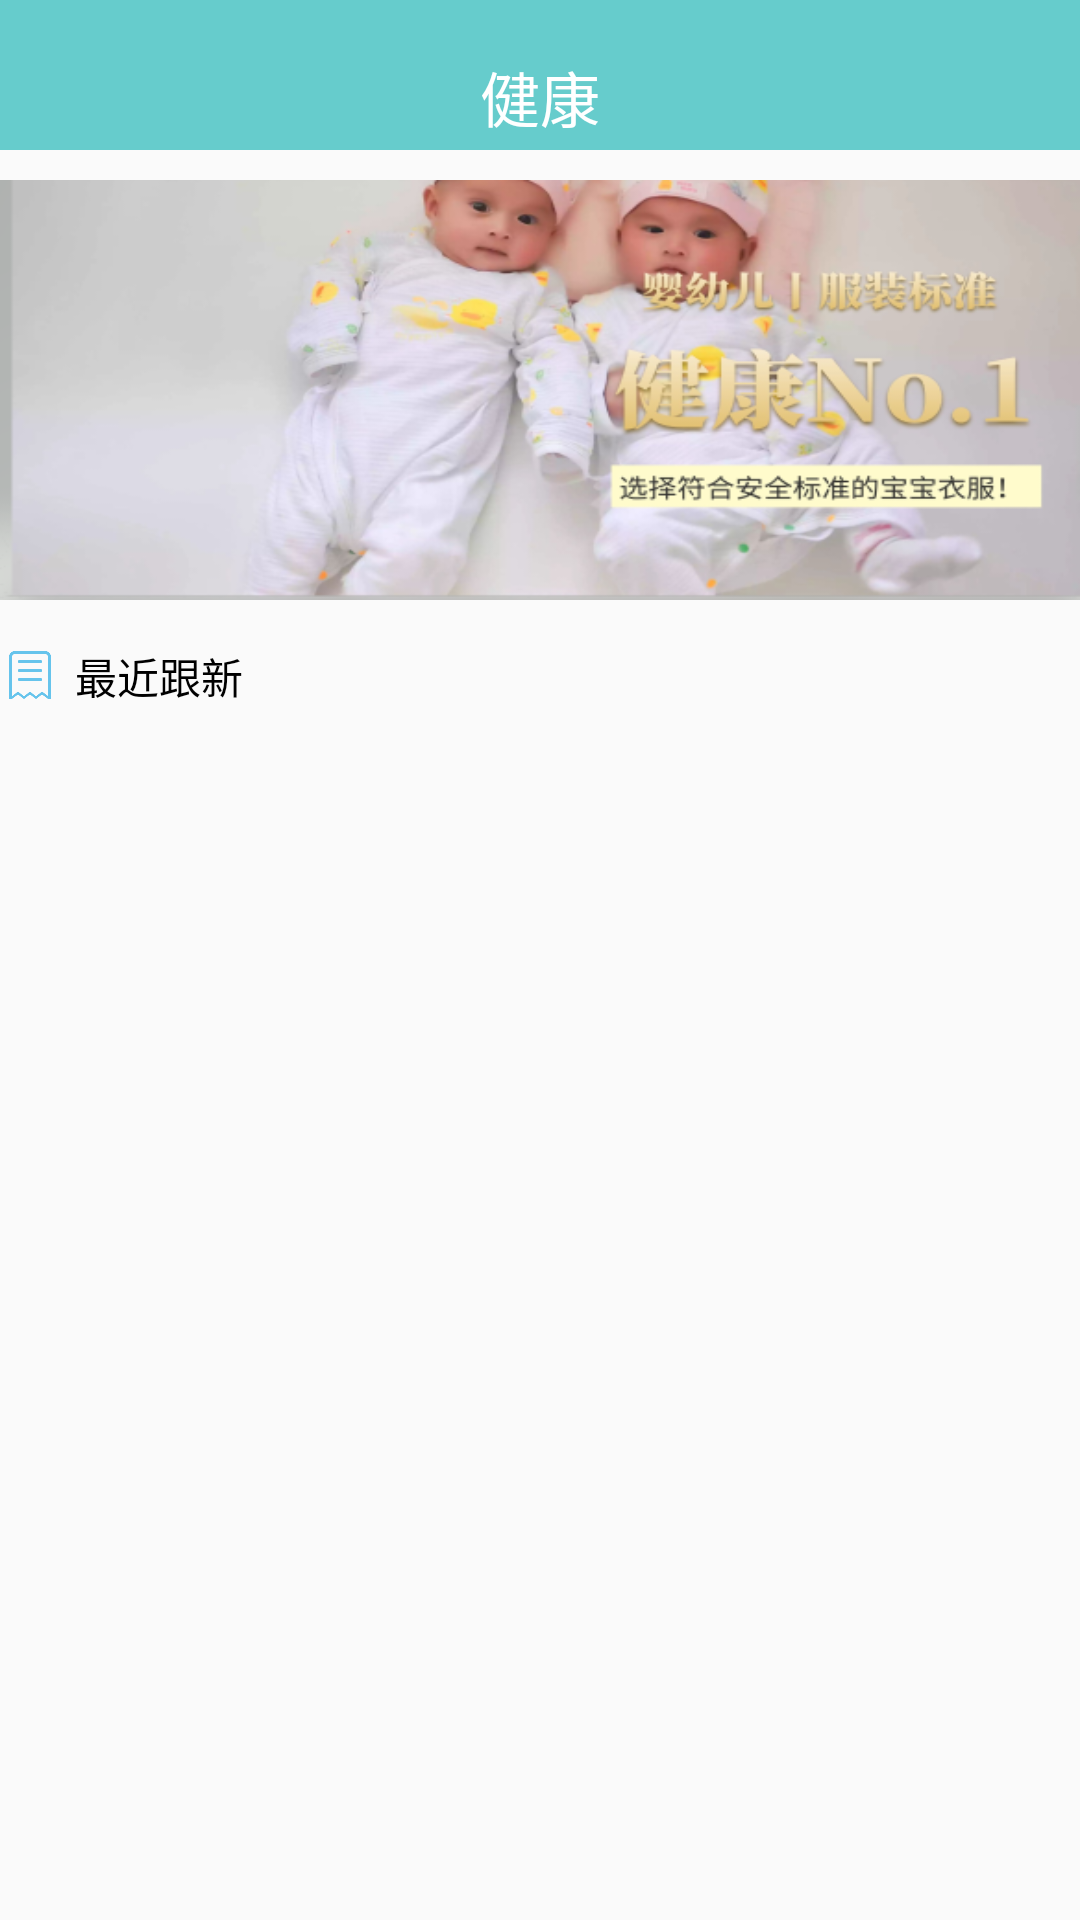

Icons on this 1080*1920 Android screen, each with the point to tap as (x=x, y=y):
note: (x=30, y=675)
